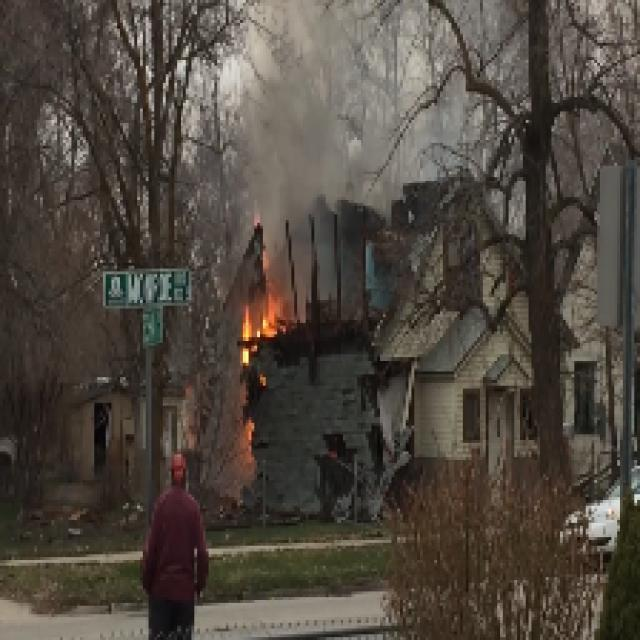Fire: (244, 284, 288, 389)
Smoke: (260, 33, 352, 233)
